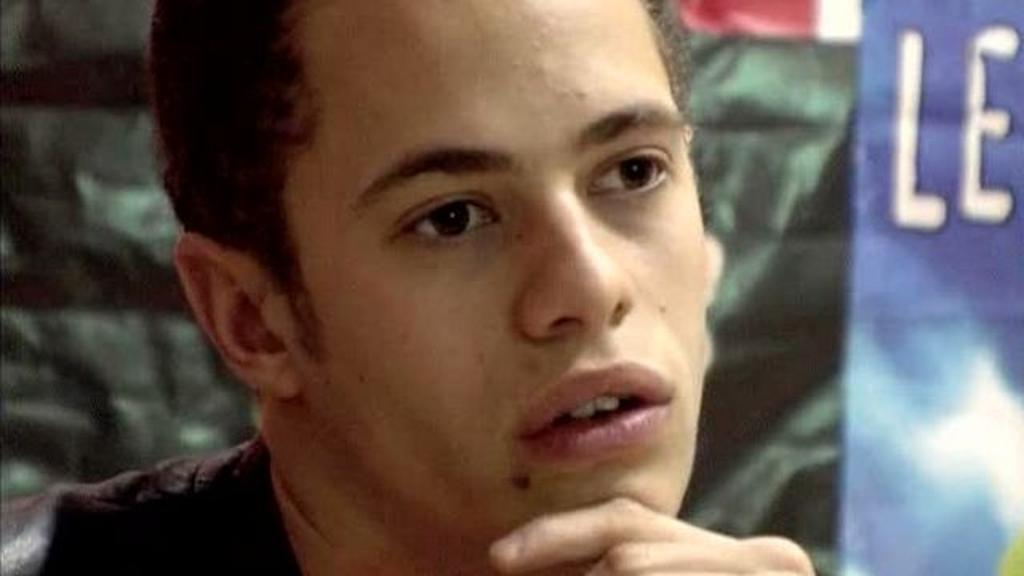face: (290, 2, 706, 544)
